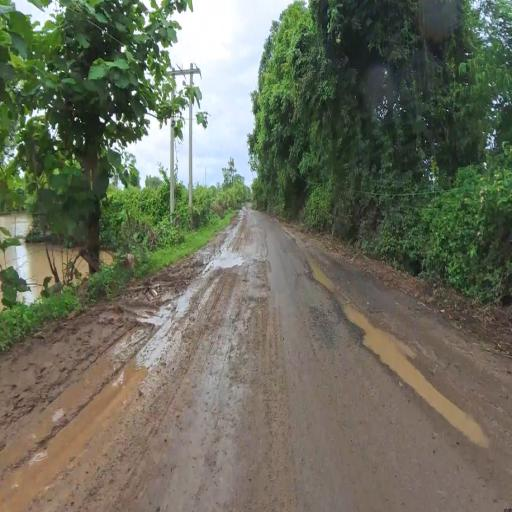ravelling: (197, 251, 366, 414)
